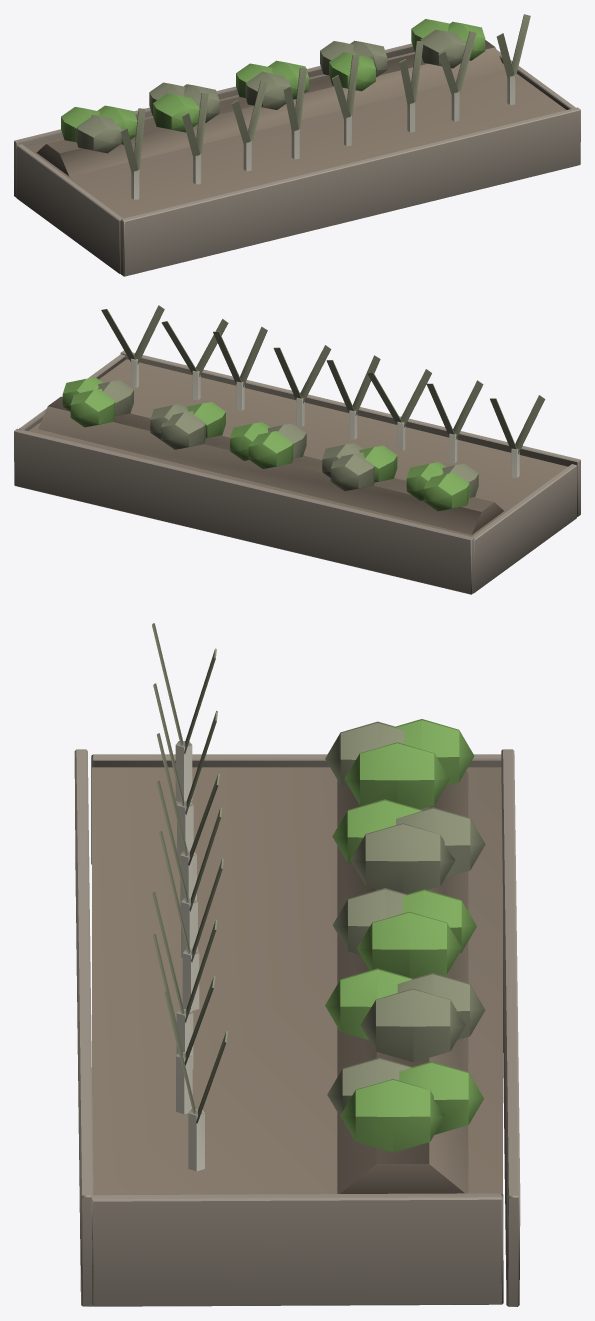
File: garden_bed_roots.glb
The picture shows the model from 3 angles, top to bottom: view 1: azimuth 30°, elevation 25°; view 2: azimuth 150°, elevation 25°; view 3: azimuth 270°, elevation 25°; orthographic projection. The views are drawn at different scales.
Parts seen in each view (by area): view 1: static; view 2: static; view 3: static.
Part boxes in pixels (bbox=[...]): static: bbox=[14, 14, 580, 276]; static: bbox=[14, 305, 580, 594]; static: bbox=[74, 623, 520, 1306].
Size of the model in its own units: 2.4 by 0.6592 by 1.01.
